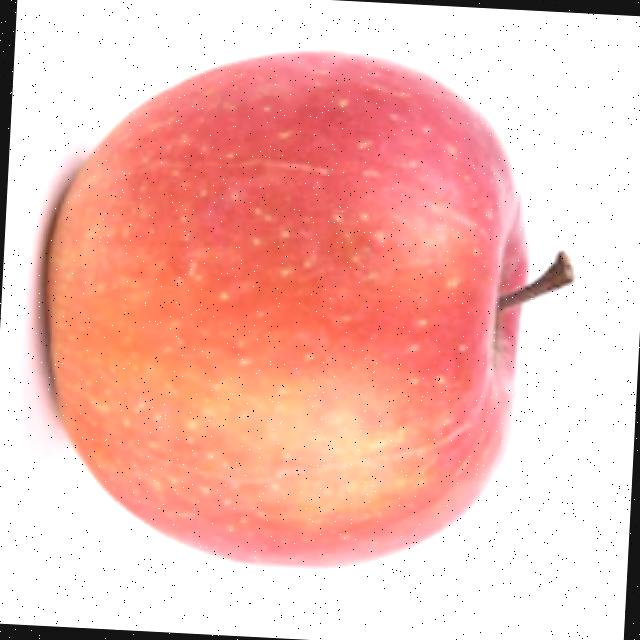Ripe: (23, 27, 550, 586)
